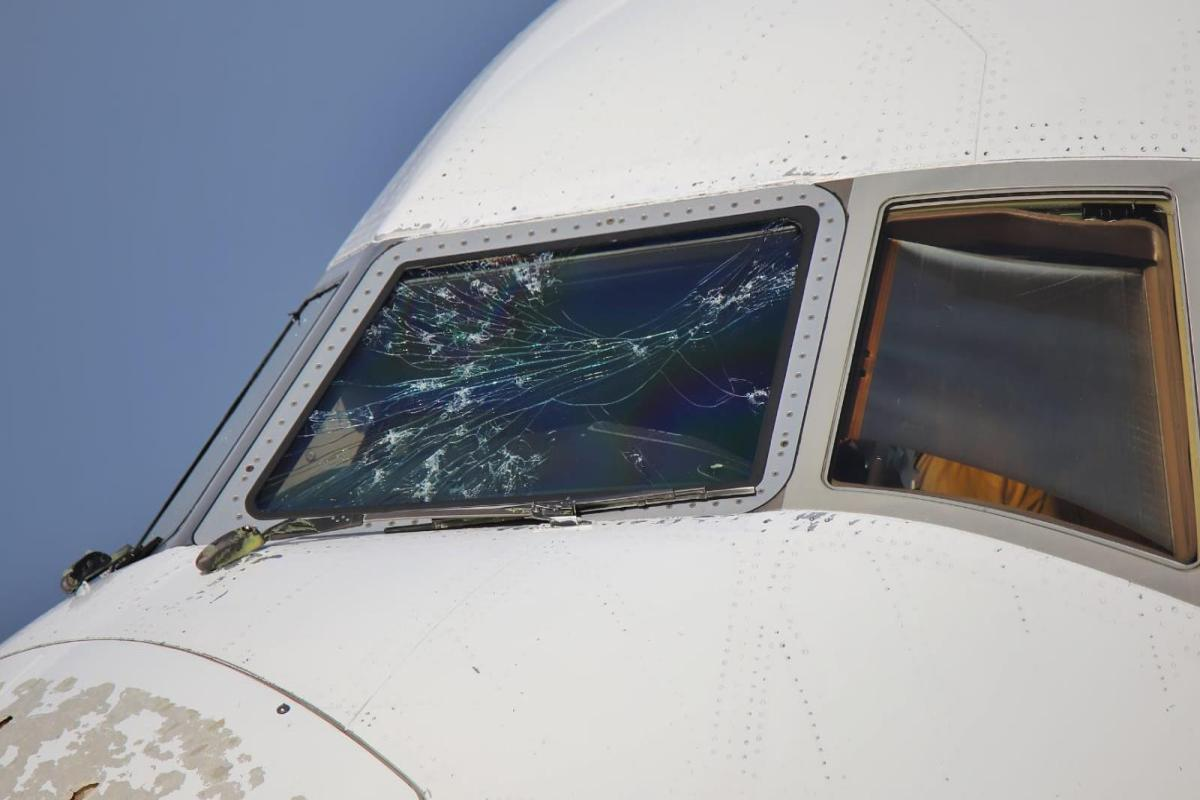Fuselage_damage: (256, 219, 803, 513), (0, 675, 298, 799)
